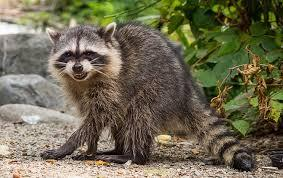raccoon: (36, 14, 265, 174)
